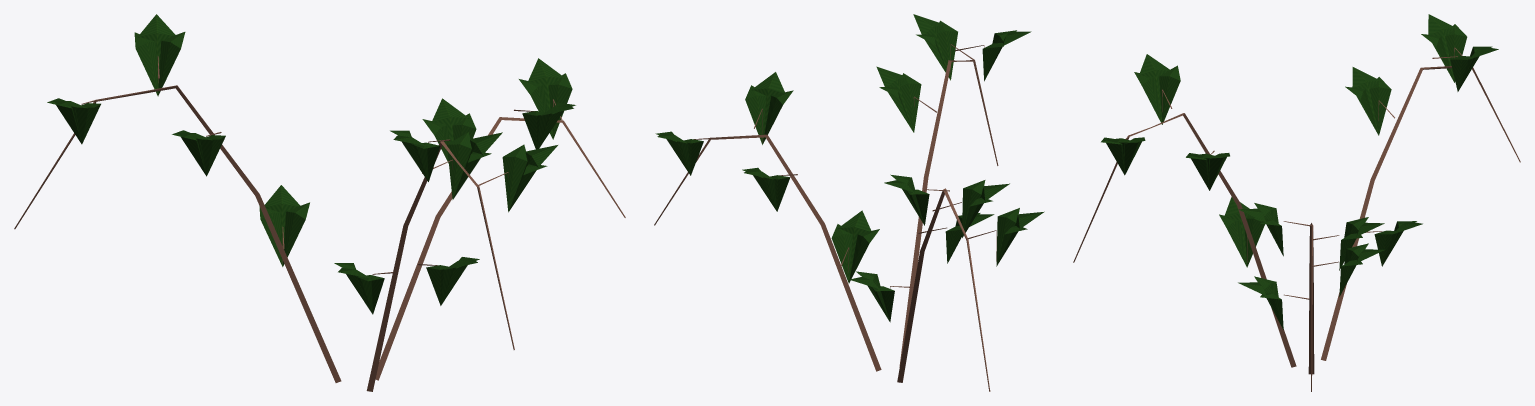
File: Bramble_Clump_01_LOD2.fbx
3 views of the same model, side by side, from view 1: azimuth 30°, elevation 25°; view 2: azimuth 150°, elevation 25°; view 3: azimuth 270°, elevation 25° (orthographic). The views are drawn at different scales.
Parts seen in each view (by area): view 1: Bramble_Clump_01_LOD2_Mesh; view 2: Bramble_Clump_01_LOD2_Mesh; view 3: Bramble_Clump_01_LOD2_Mesh.
Boxes of the visible parts, <box> form: Bramble_Clump_01_LOD2_Mesh: <box>14,14,625,391</box>; Bramble_Clump_01_LOD2_Mesh: <box>654,14,1044,391</box>; Bramble_Clump_01_LOD2_Mesh: <box>1073,14,1520,391</box>.
Bounding box in the file's own units: 145 × 90.29 × 127.
